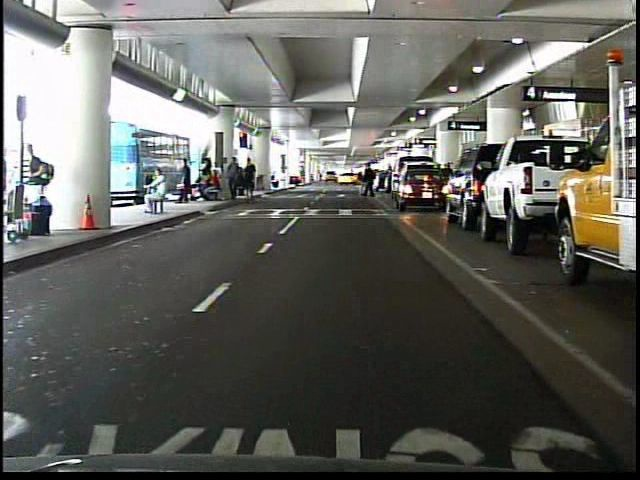person: (138, 167, 170, 218), (175, 156, 194, 207), (361, 159, 380, 203), (354, 160, 370, 197)
